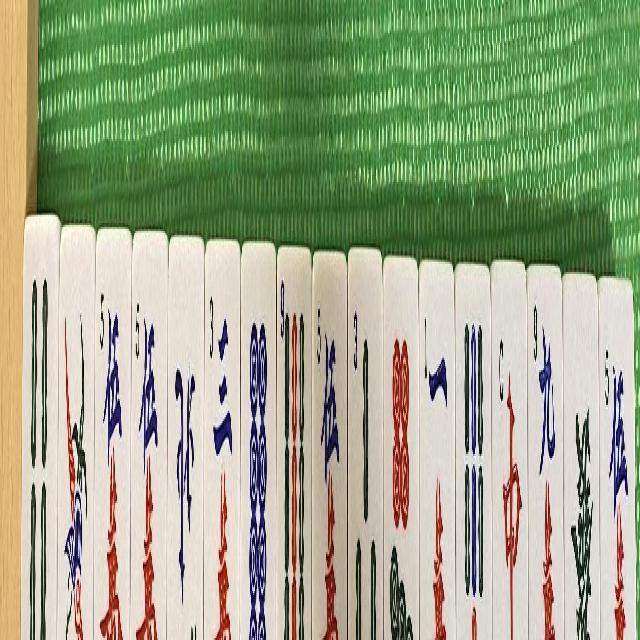hdg: (564, 306, 597, 640)
hdr: (495, 286, 525, 640)
hwn: (171, 272, 199, 640)
sb1: (60, 259, 90, 640)
sb3: (352, 266, 381, 640)
sb4: (25, 259, 55, 640)
sb7: (460, 272, 488, 640)
sb9: (278, 272, 308, 640)
sc1: (419, 267, 457, 640)
sc3: (206, 251, 235, 640)
sc5: (96, 272, 128, 640), (314, 272, 346, 640), (134, 266, 164, 640), (601, 306, 633, 640)
sc9: (530, 286, 560, 640)
sd7: (386, 280, 417, 640)
sd8: (242, 272, 274, 640)
